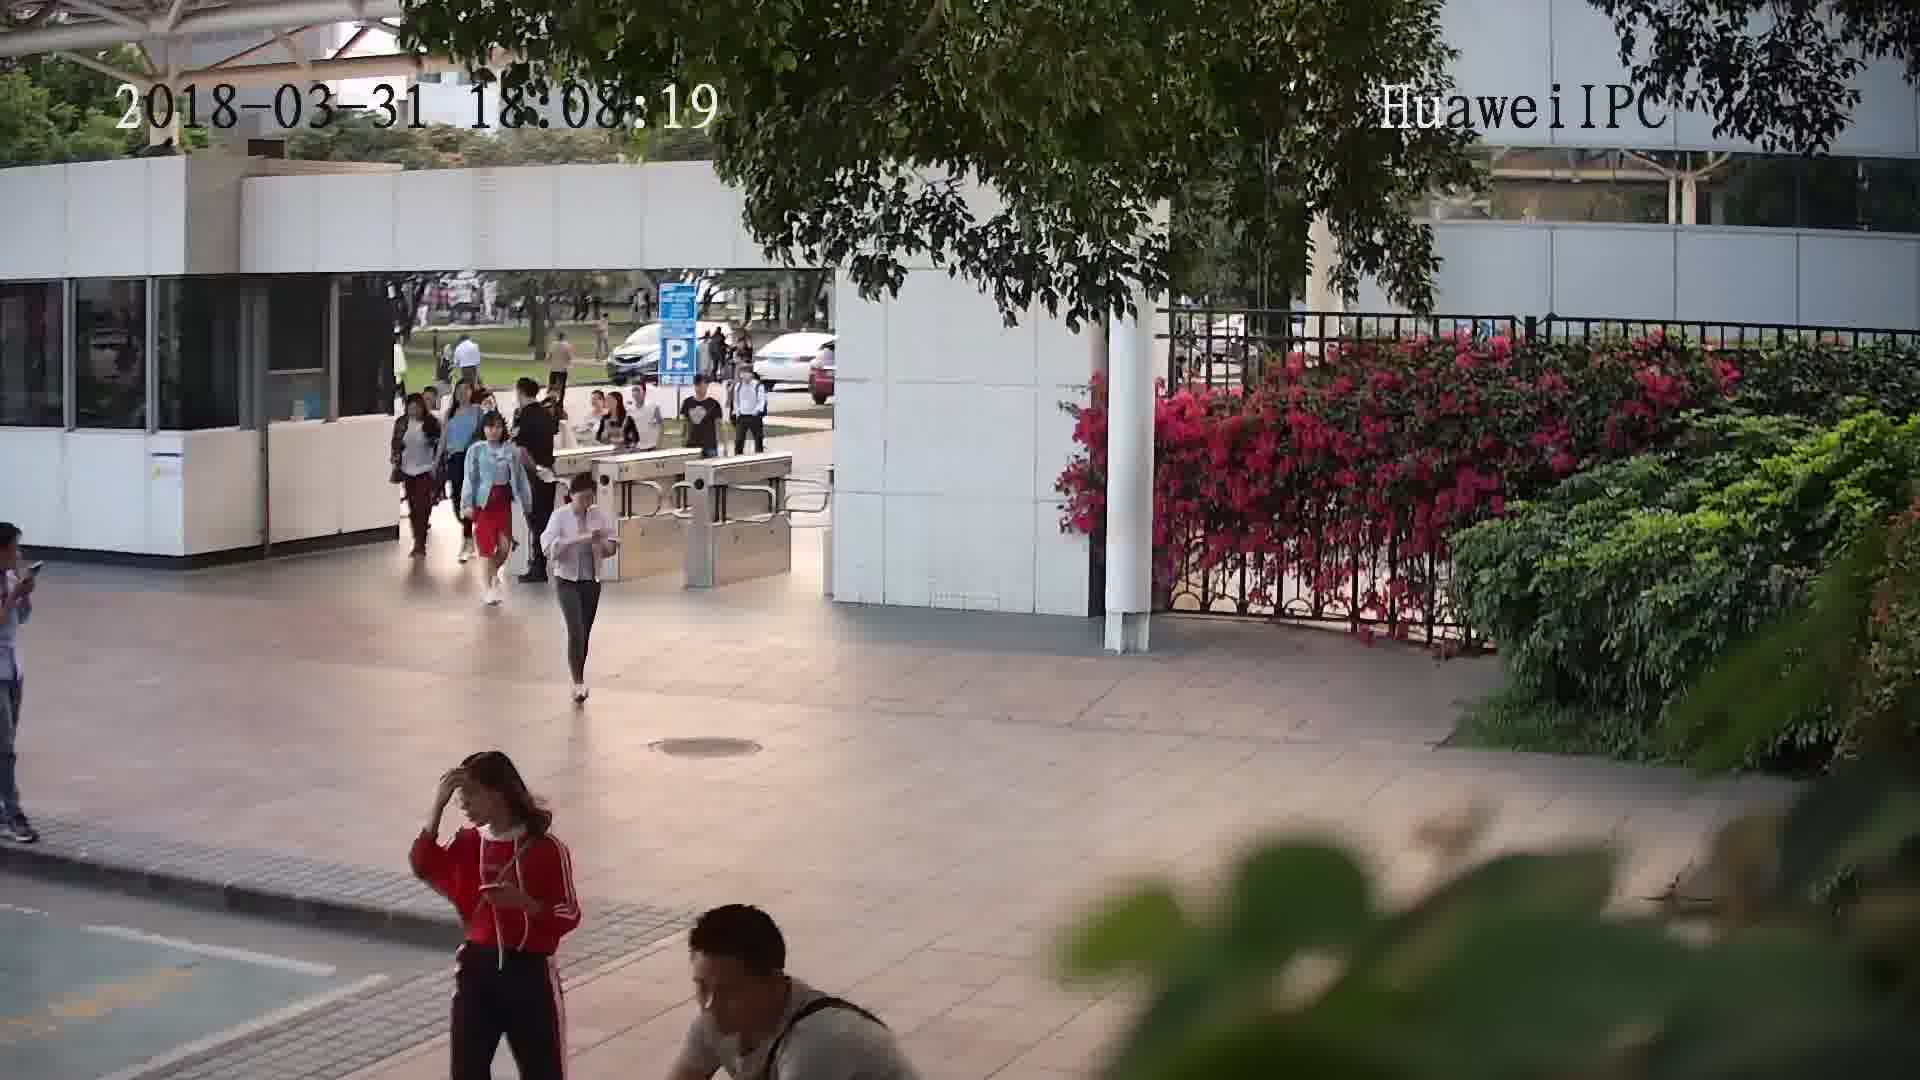face: (682, 949, 769, 1036), (445, 771, 503, 829)
person: (676, 899, 878, 1062), (428, 746, 565, 862), (549, 471, 609, 531), (463, 412, 517, 465), (1, 519, 34, 601), (509, 373, 553, 426), (445, 376, 488, 425), (392, 388, 437, 434), (595, 386, 635, 430), (680, 369, 723, 410), (626, 382, 664, 416), (733, 366, 766, 396), (451, 327, 482, 354)
